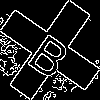B: (25, 25, 79, 81)
